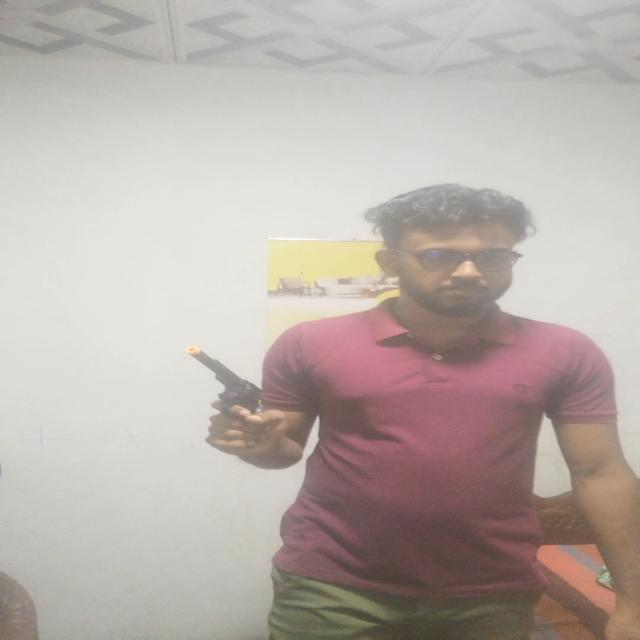Gun_Holder: (169, 346, 289, 446)
Person: (209, 186, 640, 640)
